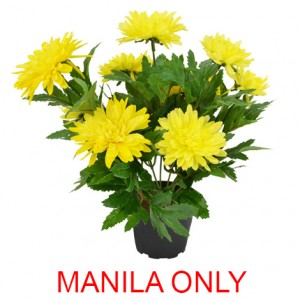dandelion: (155, 112, 226, 168), (205, 36, 270, 95), (78, 102, 142, 155), (121, 15, 186, 46), (25, 44, 78, 81)
